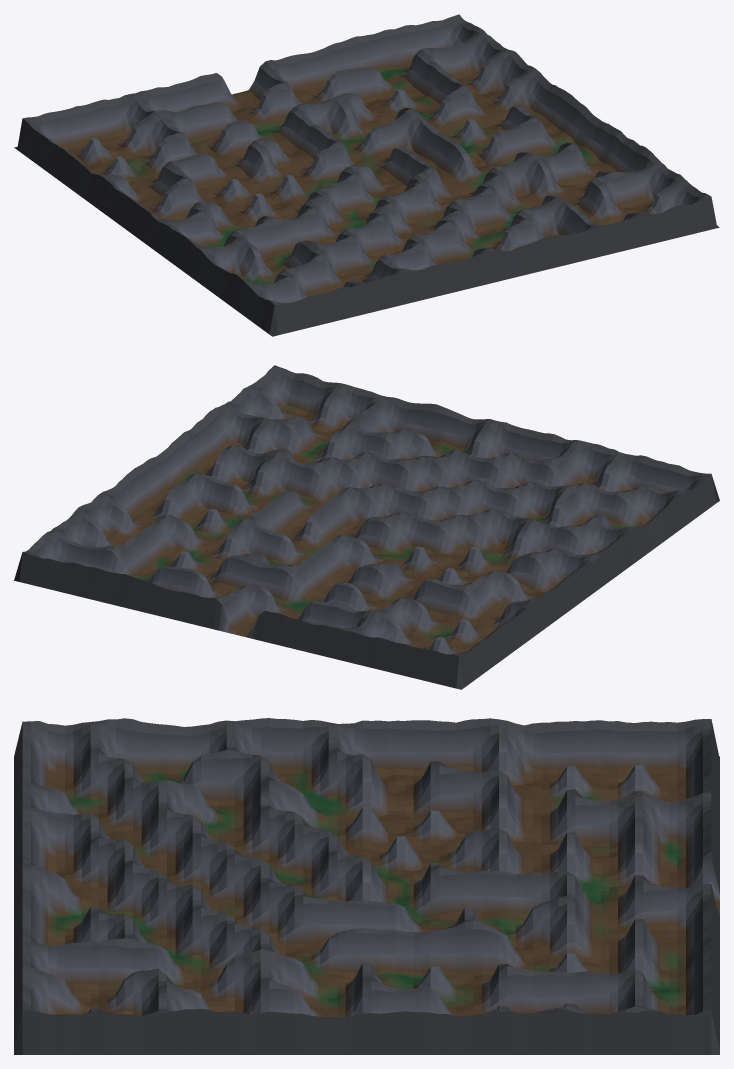
File: map_19_19_20.fbx
3 renders of one model, top to bottom at view 1: azimuth 30°, elevation 25°; view 2: azimuth 150°, elevation 25°; view 3: azimuth 270°, elevation 25°, orthographic. The views are drawn at different scales.
Visible parts, largest first — view 1: Plane; view 2: Plane; view 3: Plane.
Boxes of the visible parts, x1=… form: Plane: x1=14, y1=14, x2=719, y2=336; Plane: x1=14, y1=365, x2=719, y2=689; Plane: x1=14, y1=718, x2=719, y2=1054.
Size of the model in its own units: 100 by 7.28 by 100.
